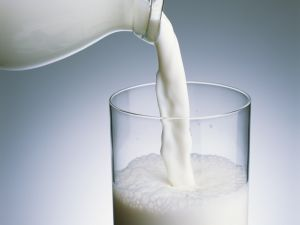glass of milk: (109, 86, 250, 225)
